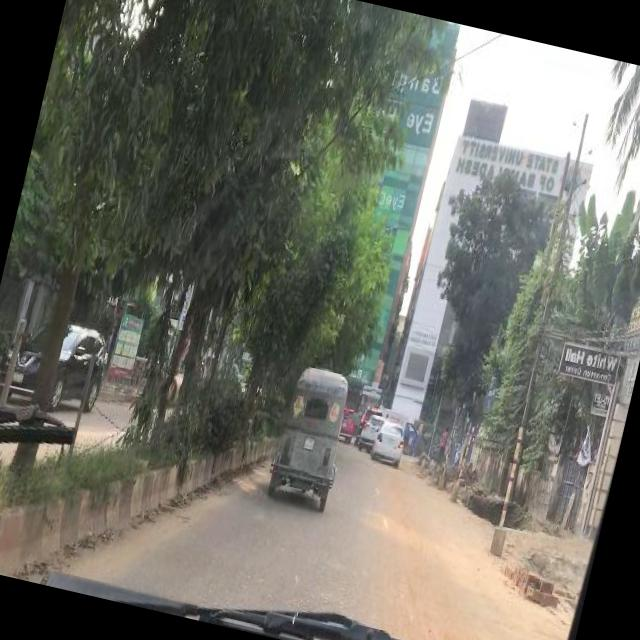car: (372, 423, 406, 462), (358, 412, 383, 448), (340, 406, 360, 441)
motorcycle: (267, 369, 357, 501)
truck: (0, 311, 112, 416), (374, 404, 425, 452)
